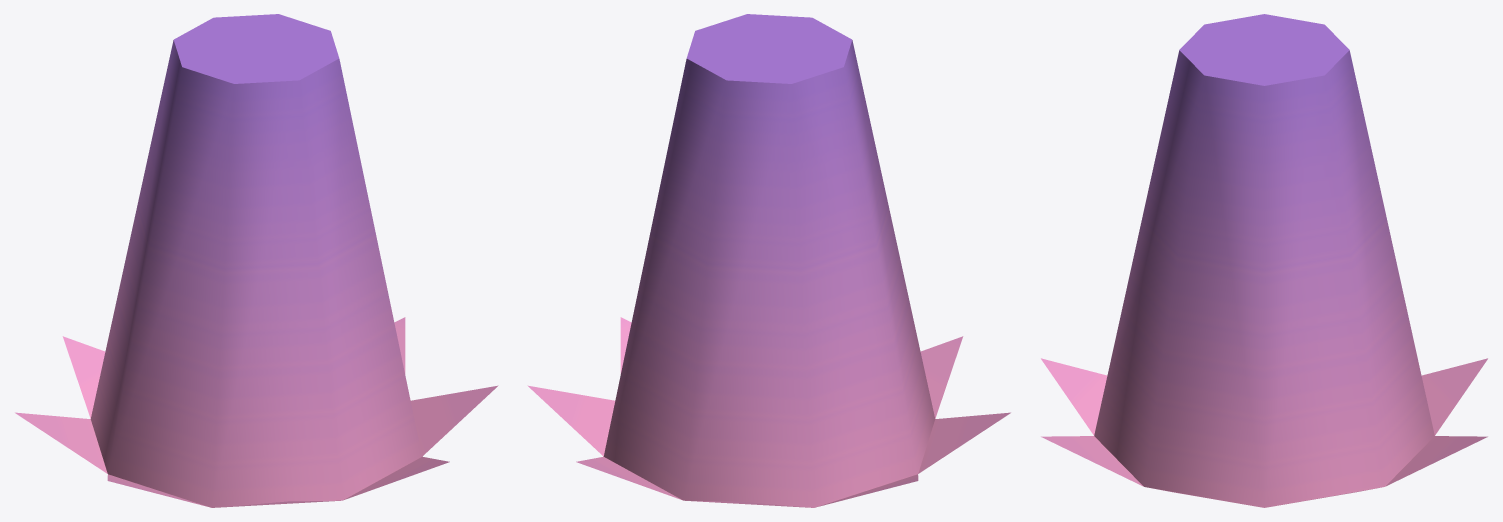
Rendered from enemy-ufo-beam-burst.fbx.
3 views of the same model, side by side, from view 1: azimuth 30°, elevation 25°; view 2: azimuth 150°, elevation 25°; view 3: azimuth 270°, elevation 25° (orthographic).
Visible parts, largest first — view 1: enemy-ufo-beam-burst; view 2: enemy-ufo-beam-burst; view 3: enemy-ufo-beam-burst.
Boxes of the visible parts, x1,y1,x2,y2 form: enemy-ufo-beam-burst: (15, 14, 498, 507); enemy-ufo-beam-burst: (527, 14, 1010, 507); enemy-ufo-beam-burst: (1041, 14, 1487, 507).
Bounding box in the file's own units: 105 × 100 × 105.
